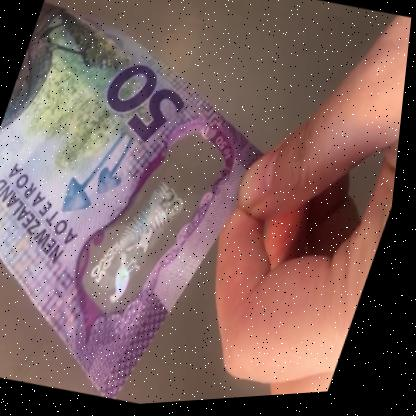50B: (84, 137, 213, 325)
